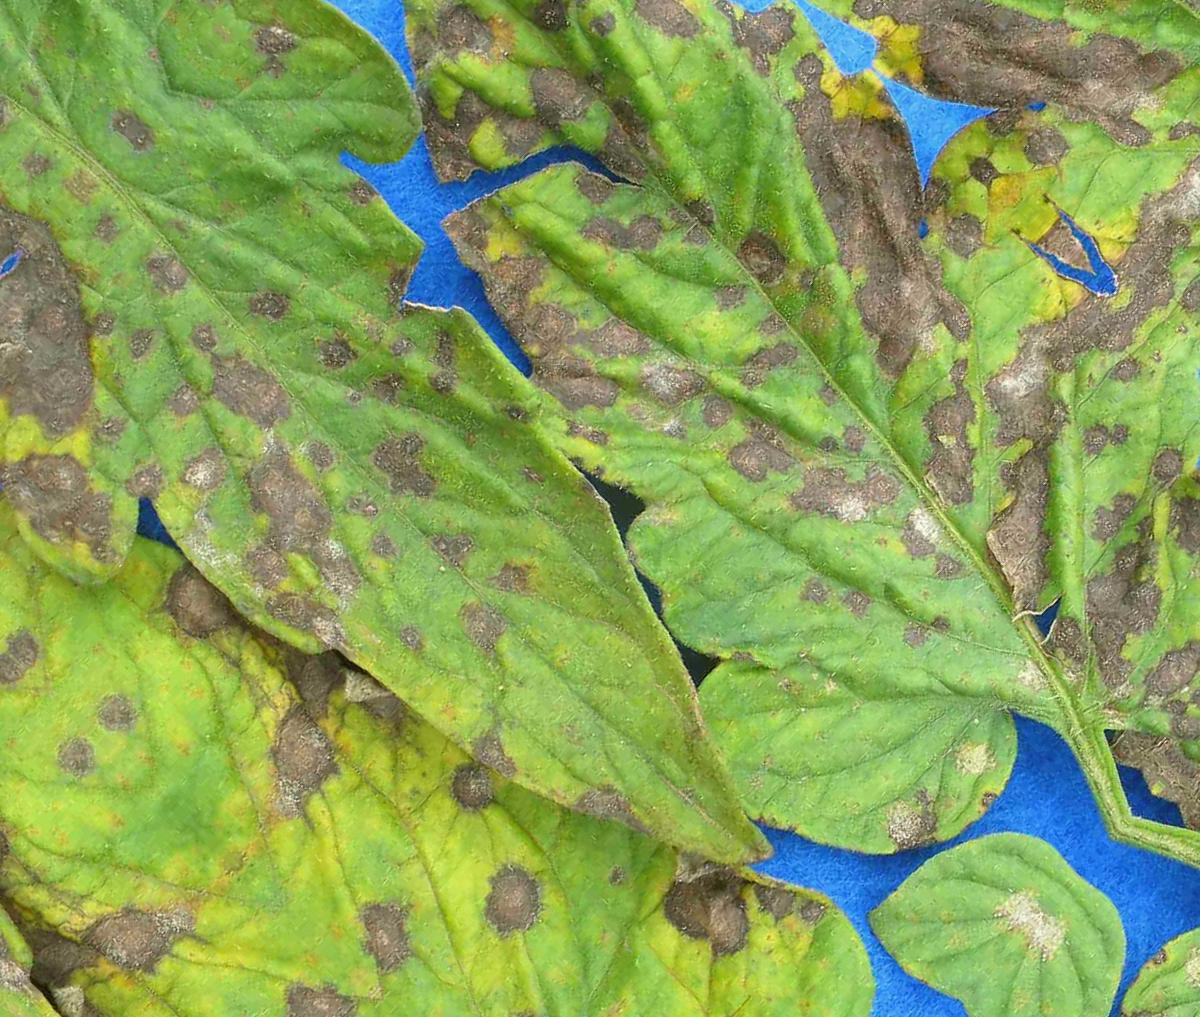Tomato Septoria leaf spot: (110, 0, 1200, 1013), (0, 0, 1031, 1017), (0, 184, 946, 1017)
